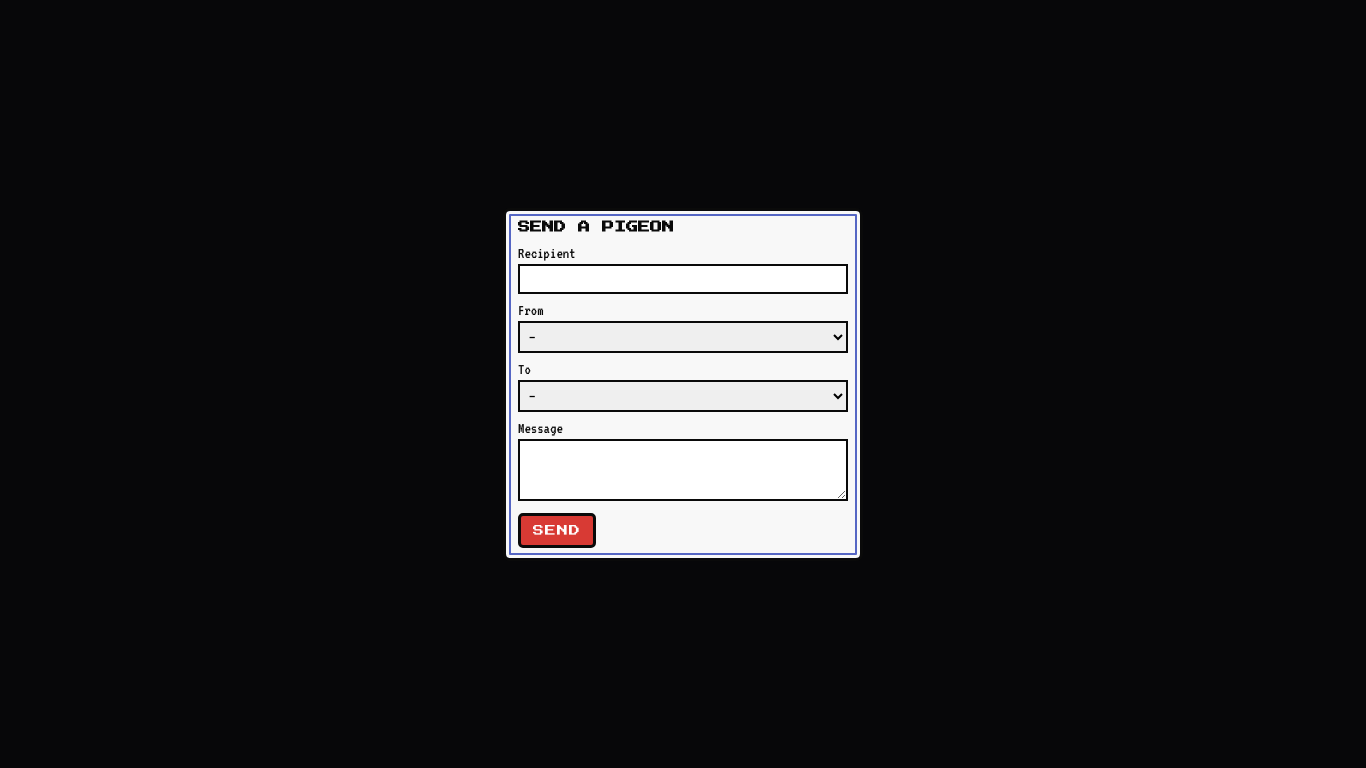
Scenario: surfaces an unknown-recipient 404
Type "ghost" into the field labelled "Recipient".
click(683, 278); type("ghost")  # box left=518, top=264, right=848, bottom=294
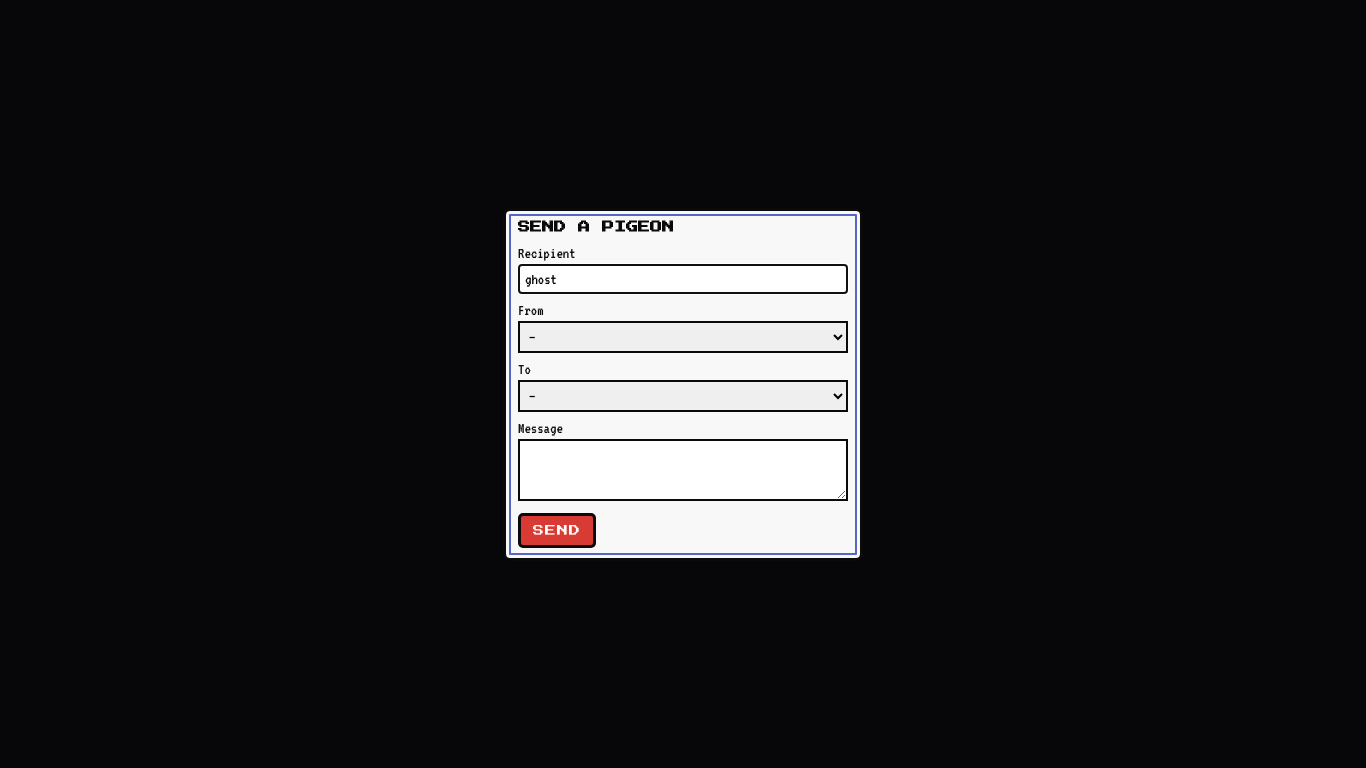
Select "New York" in the dropdown labelled "From" at (683, 336), box left=518, top=320, right=848, bottom=352
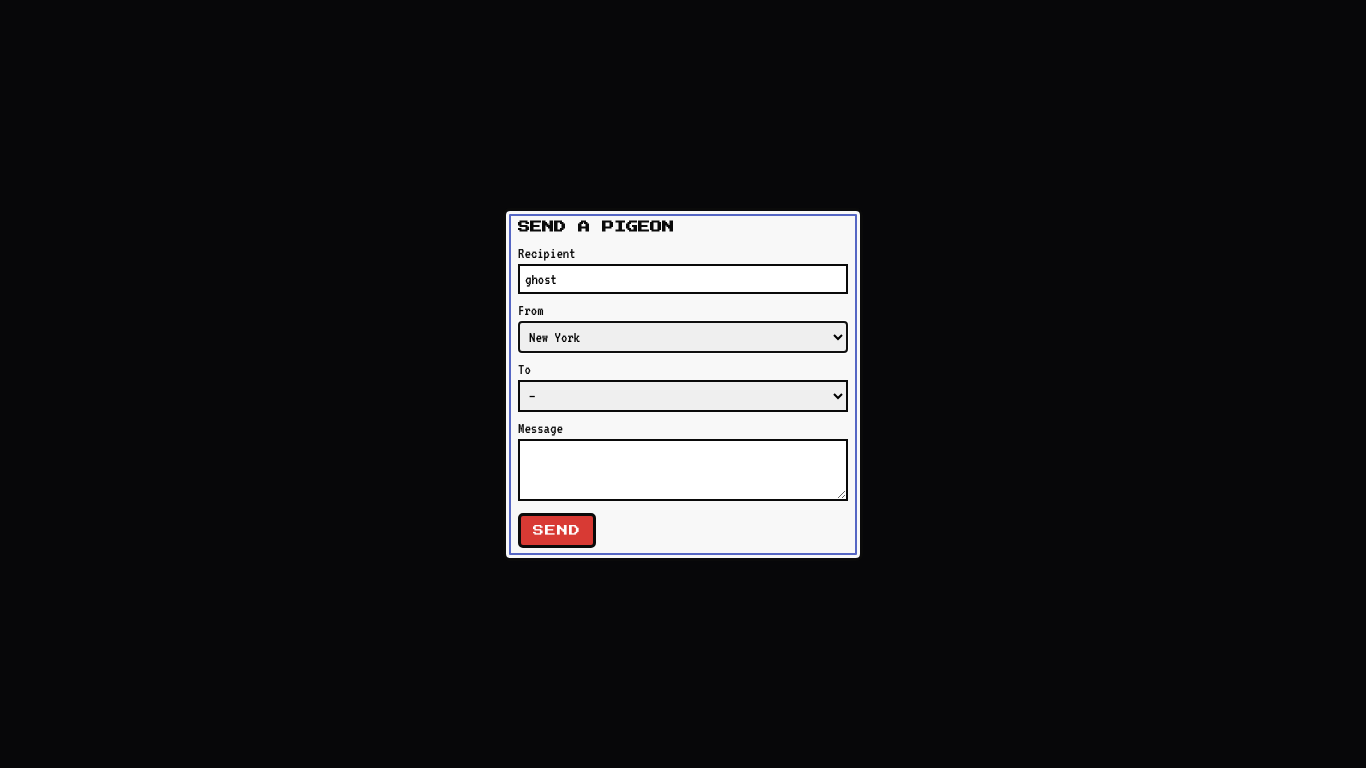
Select "Tokyo" in the dropdown labelled "To" at (683, 396), box left=518, top=380, right=848, bottom=412
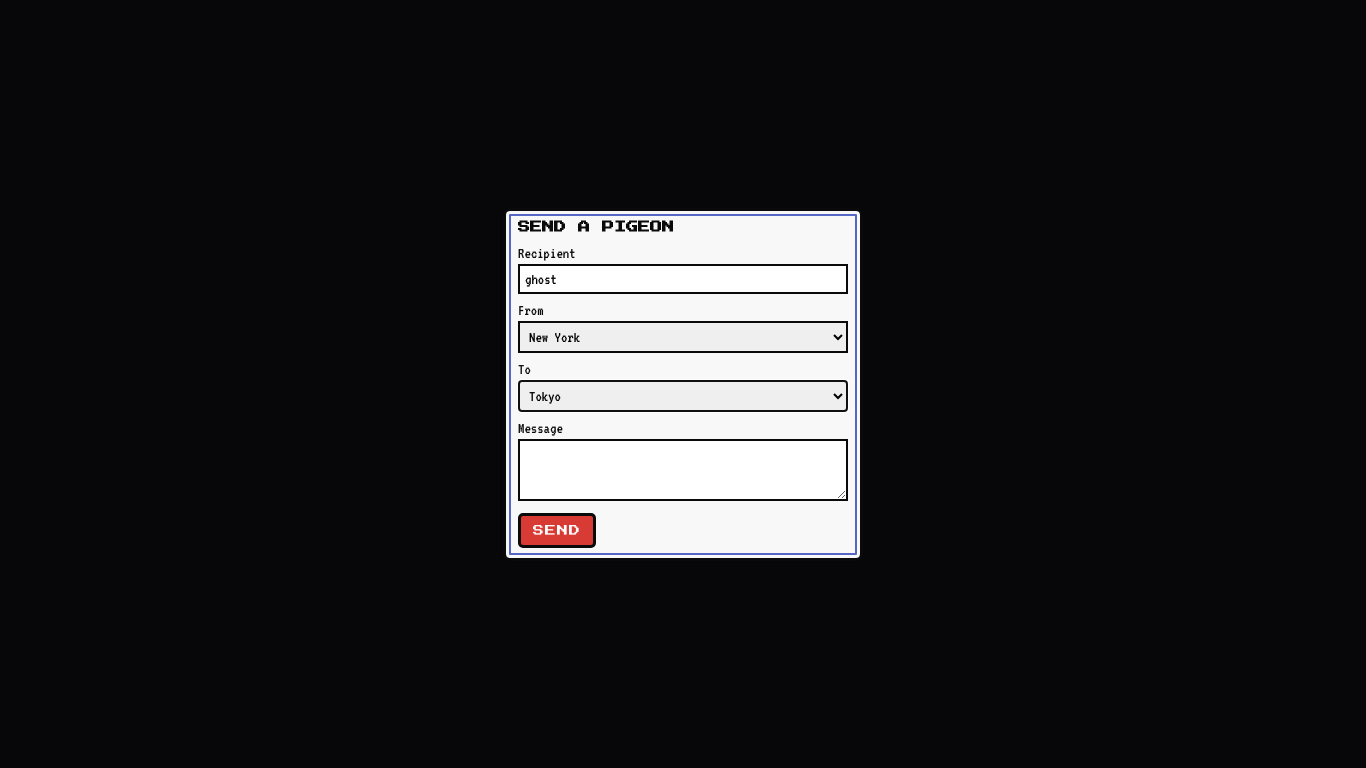
Type "wish you were here" into the text box labelled "Message".
click(683, 470); type("wish you were here")  # box left=518, top=438, right=848, bottom=500
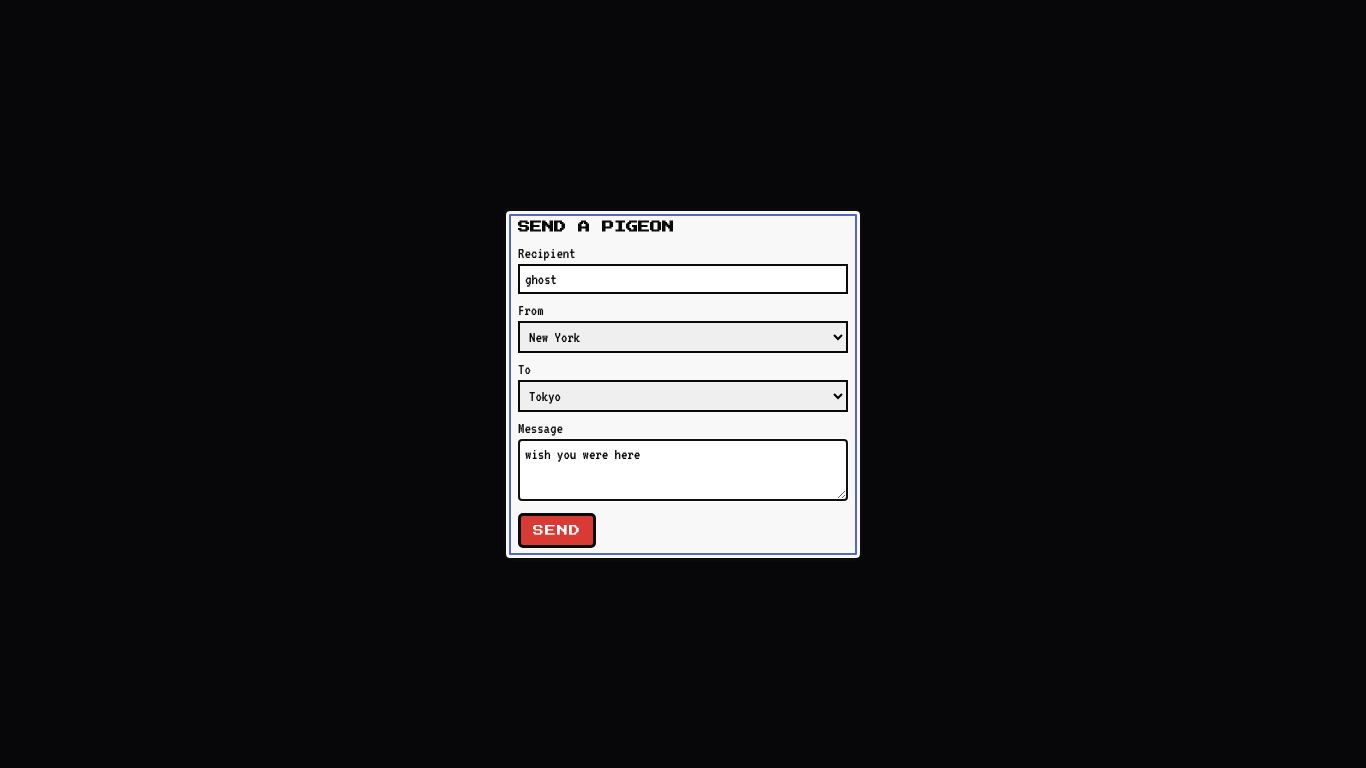
Click the button "SEND".
click(557, 530)  # box left=518, top=512, right=596, bottom=548
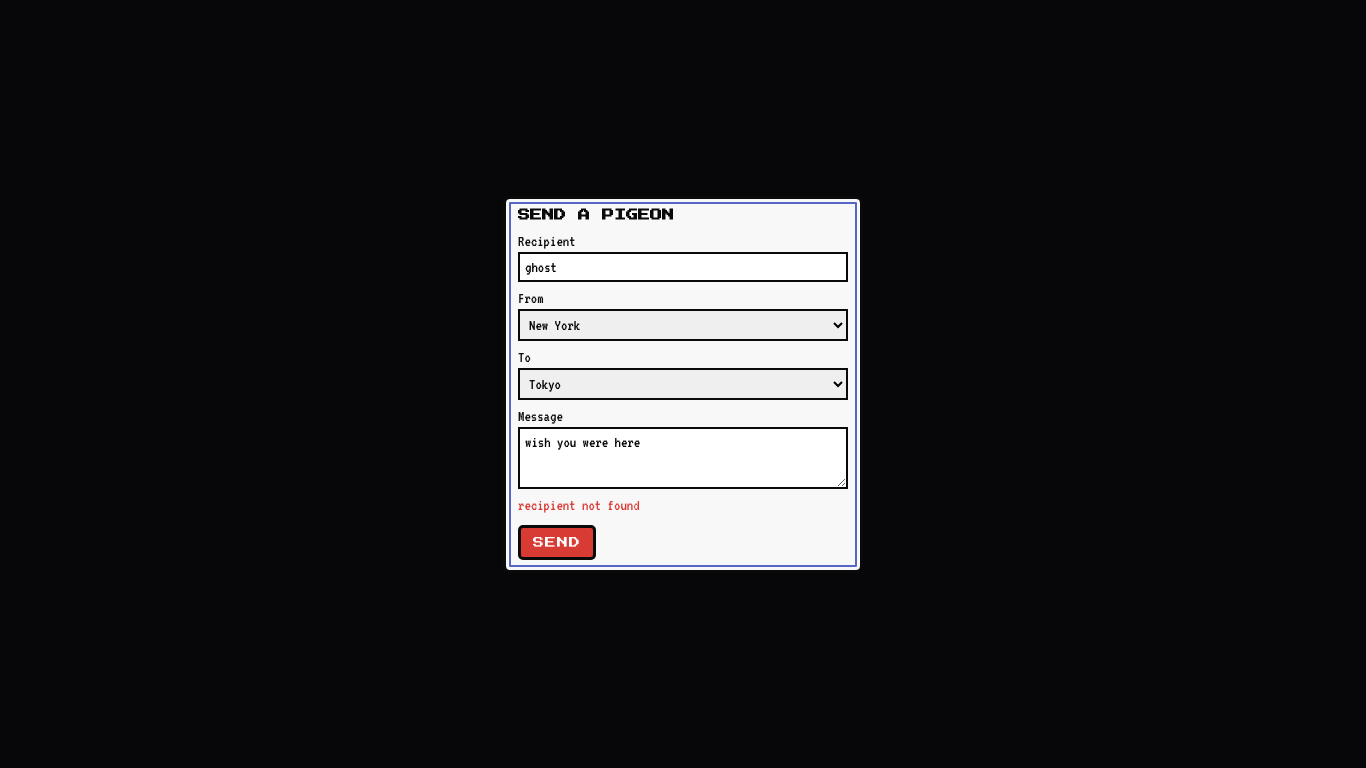
Expected: the text "recipient not found" is shown, left=518, top=496, right=640, bottom=512
